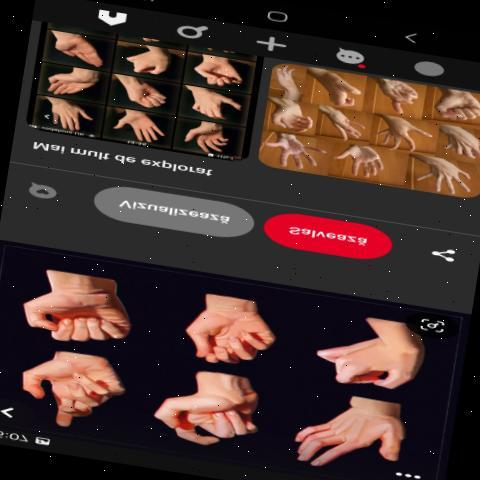Hands: (290, 393, 431, 480), (173, 288, 299, 364), (20, 360, 143, 434), (17, 284, 161, 342), (104, 109, 178, 144)
